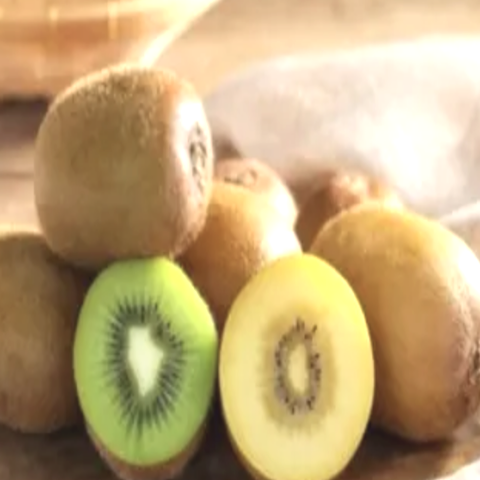kiwi: (296, 164, 479, 478), (20, 57, 227, 262)
